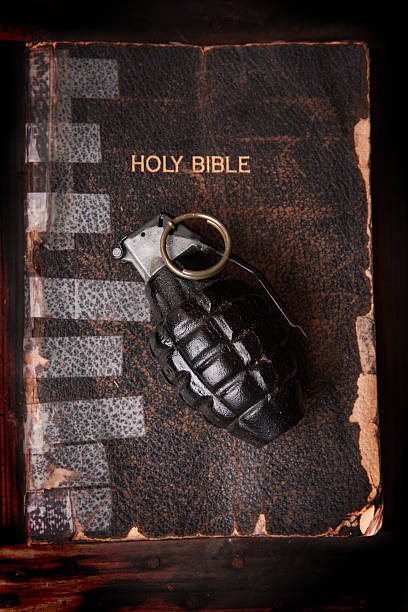e1: (112, 212, 315, 445)
